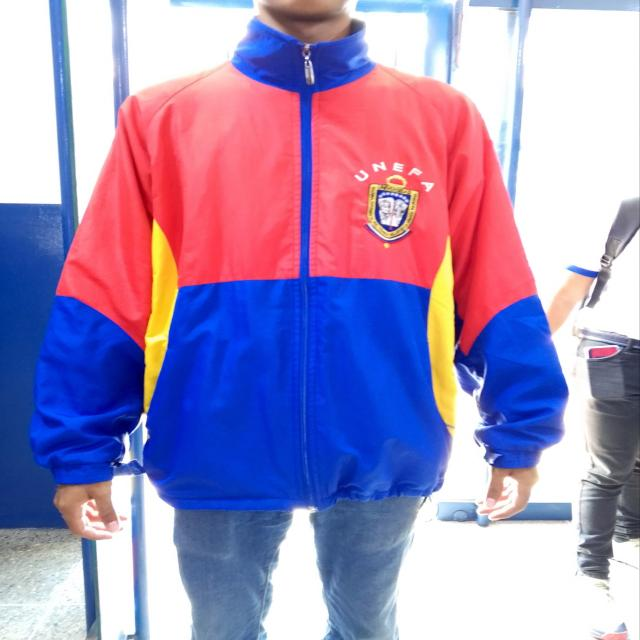chaqueta_unefa: (27, 19, 571, 514)
